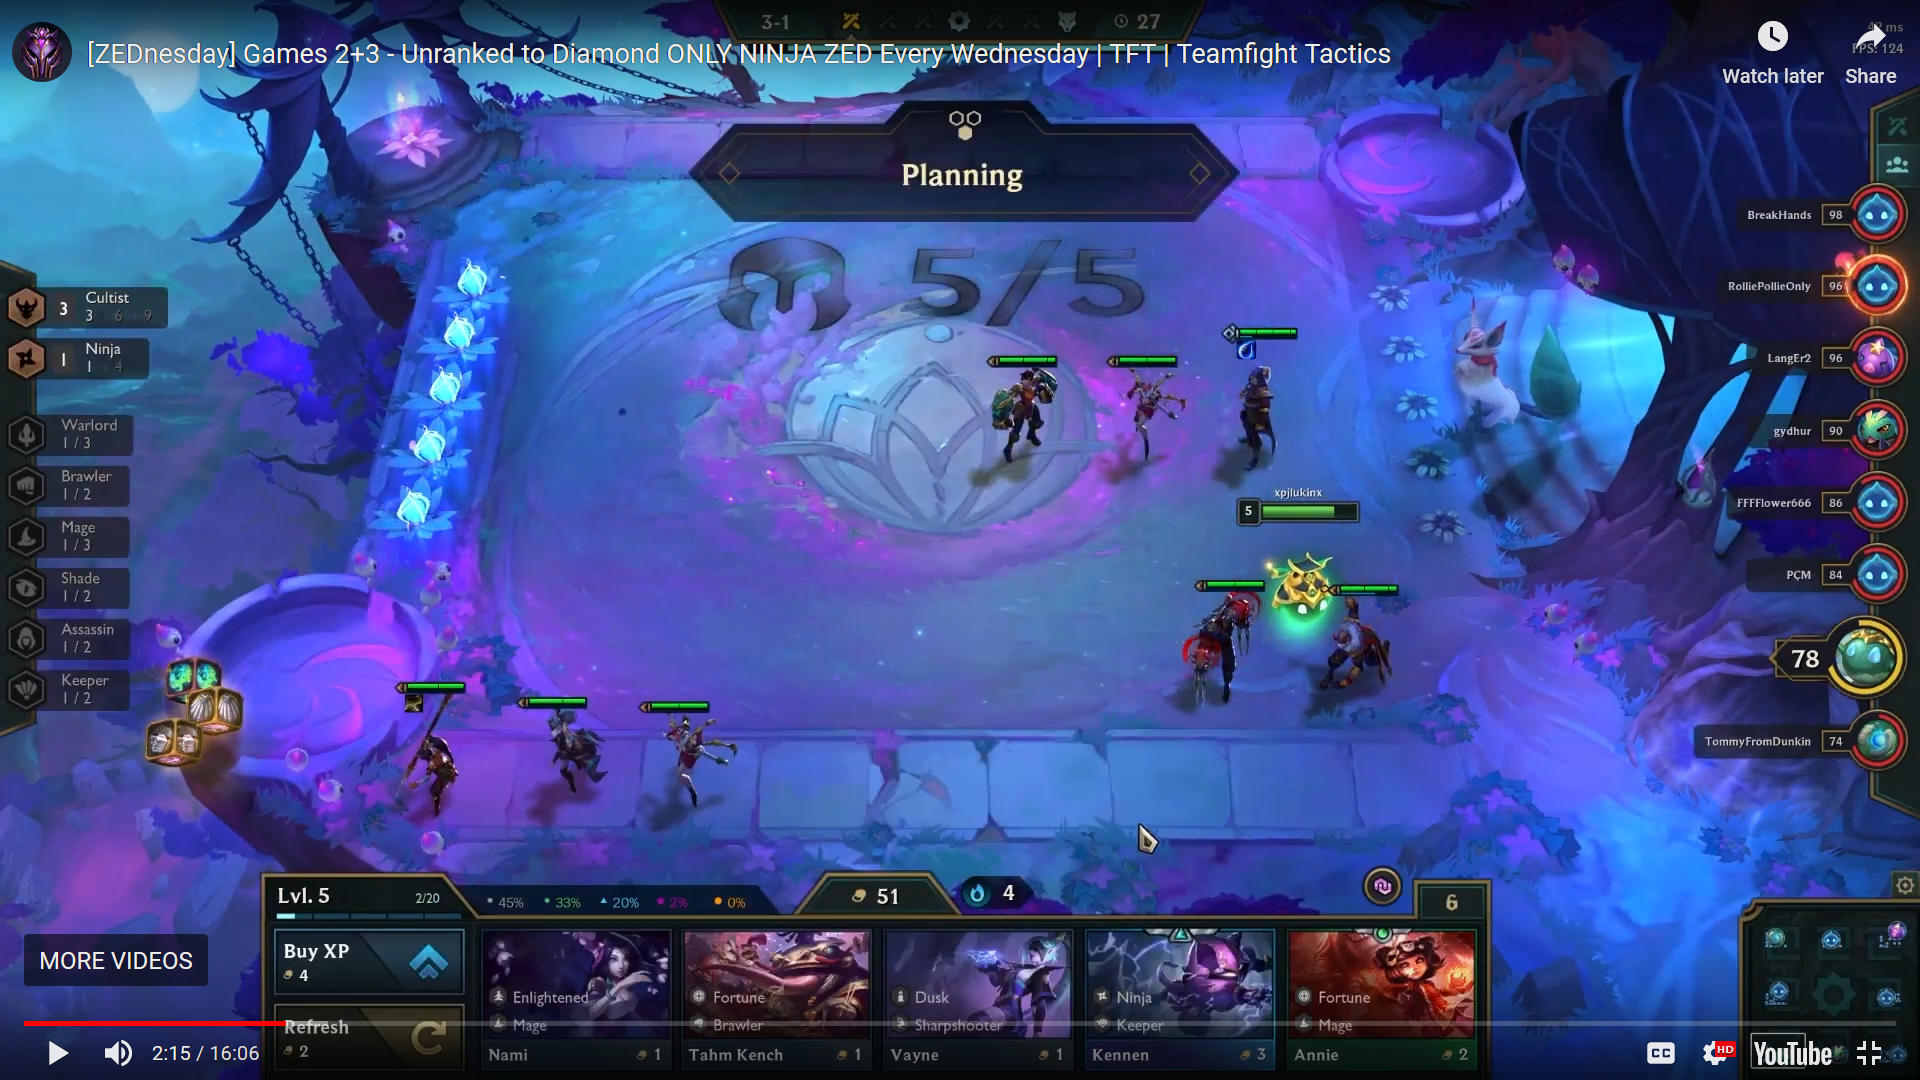1star_elise: (628, 687, 749, 833), (1087, 339, 1207, 485)
1star_nidalee: (380, 676, 487, 829)
1star_pyke: (1294, 566, 1422, 728)
1star_twistedfate: (1193, 307, 1315, 496)
1star_vayne: (505, 680, 626, 827)
1star_vi: (957, 340, 1077, 487)
1star_zed: (1155, 567, 1283, 729)
item_bow: (404, 688, 425, 713)
item_tear: (1233, 334, 1265, 363)
trait_assassin1: (1, 605, 150, 663)
trait_brawler1: (1, 455, 150, 513)
trait_cultist3: (1, 280, 181, 336)
trait_keeper1: (1, 657, 150, 715)
trait_mage1: (1, 508, 150, 566)
trait_ninja1: (1, 330, 156, 386)
trait_shade1: (1, 558, 150, 616)
trait_warlord1: (1, 404, 150, 462)
